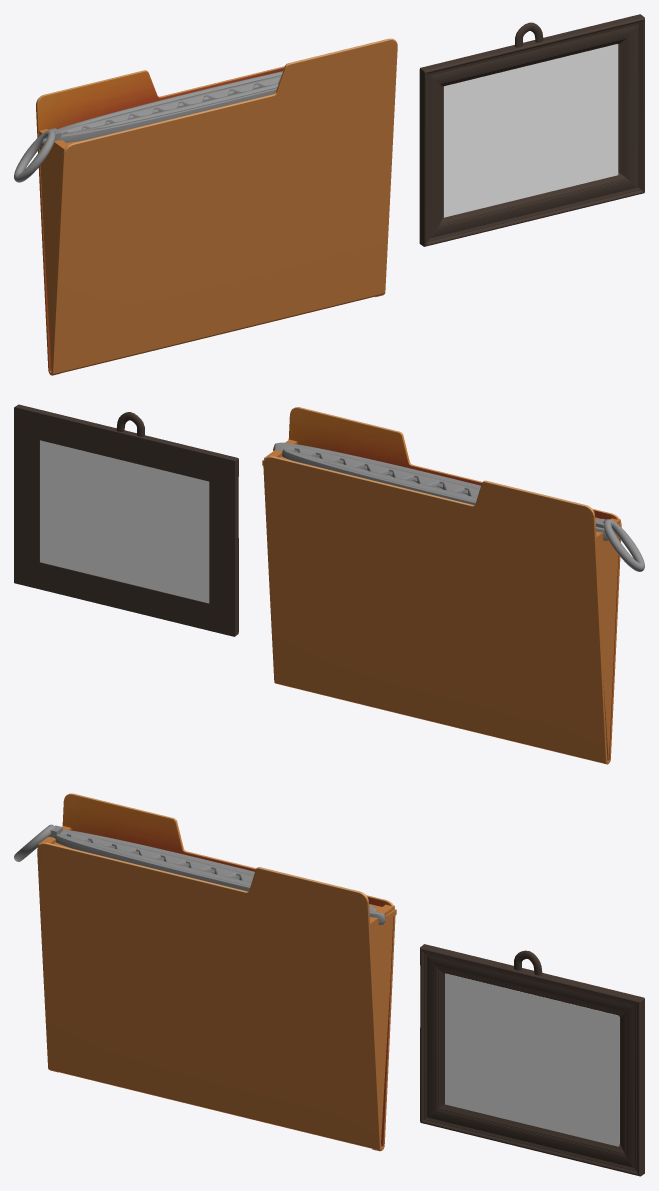
Rendered from zippedFolder.glb.
3 renders of one model, top to bottom at view 1: azimuth 30°, elevation 25°; view 2: azimuth 150°, elevation 25°; view 3: azimuth 330°, elevation 25°, orthographic.
Visible parts, largest first — view 1: node_id38, mesh_id92, node_id89, mesh_id80, node_id50, node_id58, mesh_id114; view 2: node_id38, mesh_id92, node_id89, mesh_id80, node_id58, node_id50, mesh_id114; view 3: node_id38, mesh_id92, node_id89, mesh_id73, node_id58, node_id50.
Boxes of the visible parts, x1,y1,x2,y2 form: node_id38: (36,38,397,375); mesh_id92: (443,44,618,217); node_id89: (419,14,644,246); mesh_id80: (39,129,68,375); node_id50: (41,71,282,146); node_id58: (59,82,278,142); mesh_id114: (14,129,55,182); node_id38: (263,407,621,764); mesh_id92: (40,440,209,603); node_id89: (14,404,238,636); mesh_id80: (596,518,620,760); node_id58: (273,442,599,524); node_id50: (282,449,608,540); mesh_id114: (603,519,644,571); node_id38: (37,793,395,1150); mesh_id92: (445,973,619,1146); node_id89: (420,944,644,1176); mesh_id73: (370,904,394,1151); node_id58: (54,834,385,924); node_id50: (60,829,376,911).
Size of the model in its own units: 0.9671 by 0.3936 by 0.0811.
Materials: 9 (9 with a texture image).
